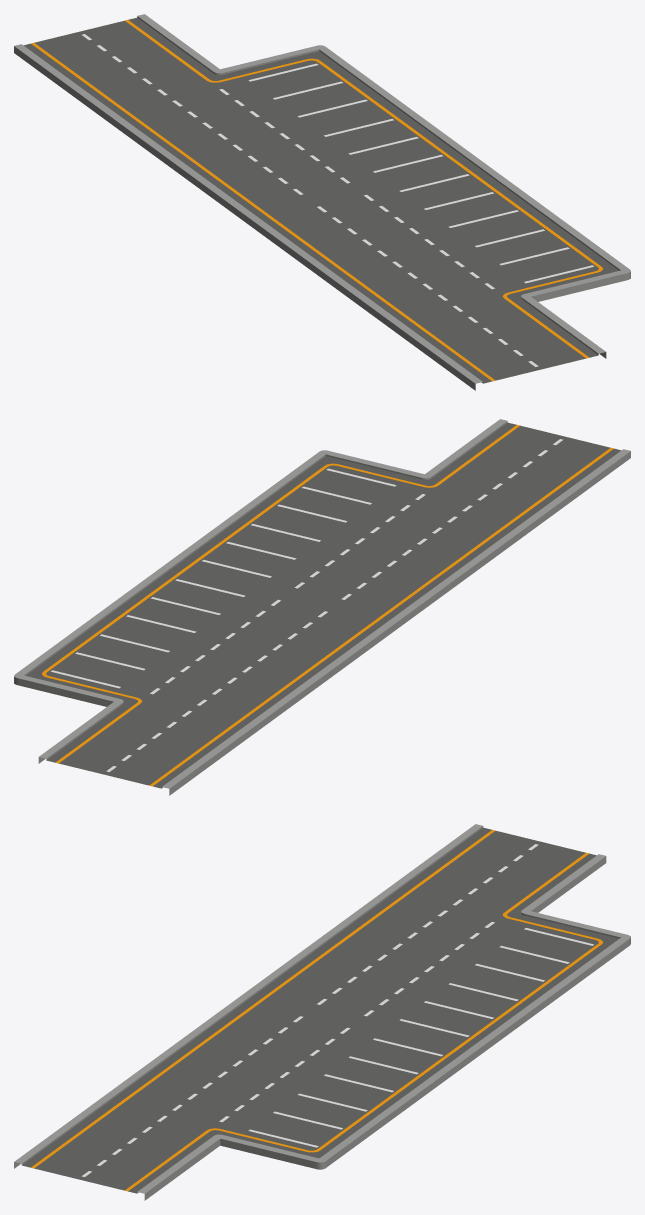
File: ParkingRoad_B_7.fbx
3 renders of one model, top to bottom at view 1: azimuth 30°, elevation 25°; view 2: azimuth 150°, elevation 25°; view 3: azimuth 330°, elevation 25°, orthographic.
Parts seen in each view (by area): view 1: ParkingRoad_B_7; view 2: ParkingRoad_B_7; view 3: ParkingRoad_B_7.
Part boxes in pixels (x1=…): ParkingRoad_B_7: x1=14, y1=14, x2=630, y2=390; ParkingRoad_B_7: x1=14, y1=419, x2=630, y2=795; ParkingRoad_B_7: x1=14, y1=824, x2=630, y2=1200.
Size of the model in its own units: 1426 by 41.48 by 4893.
